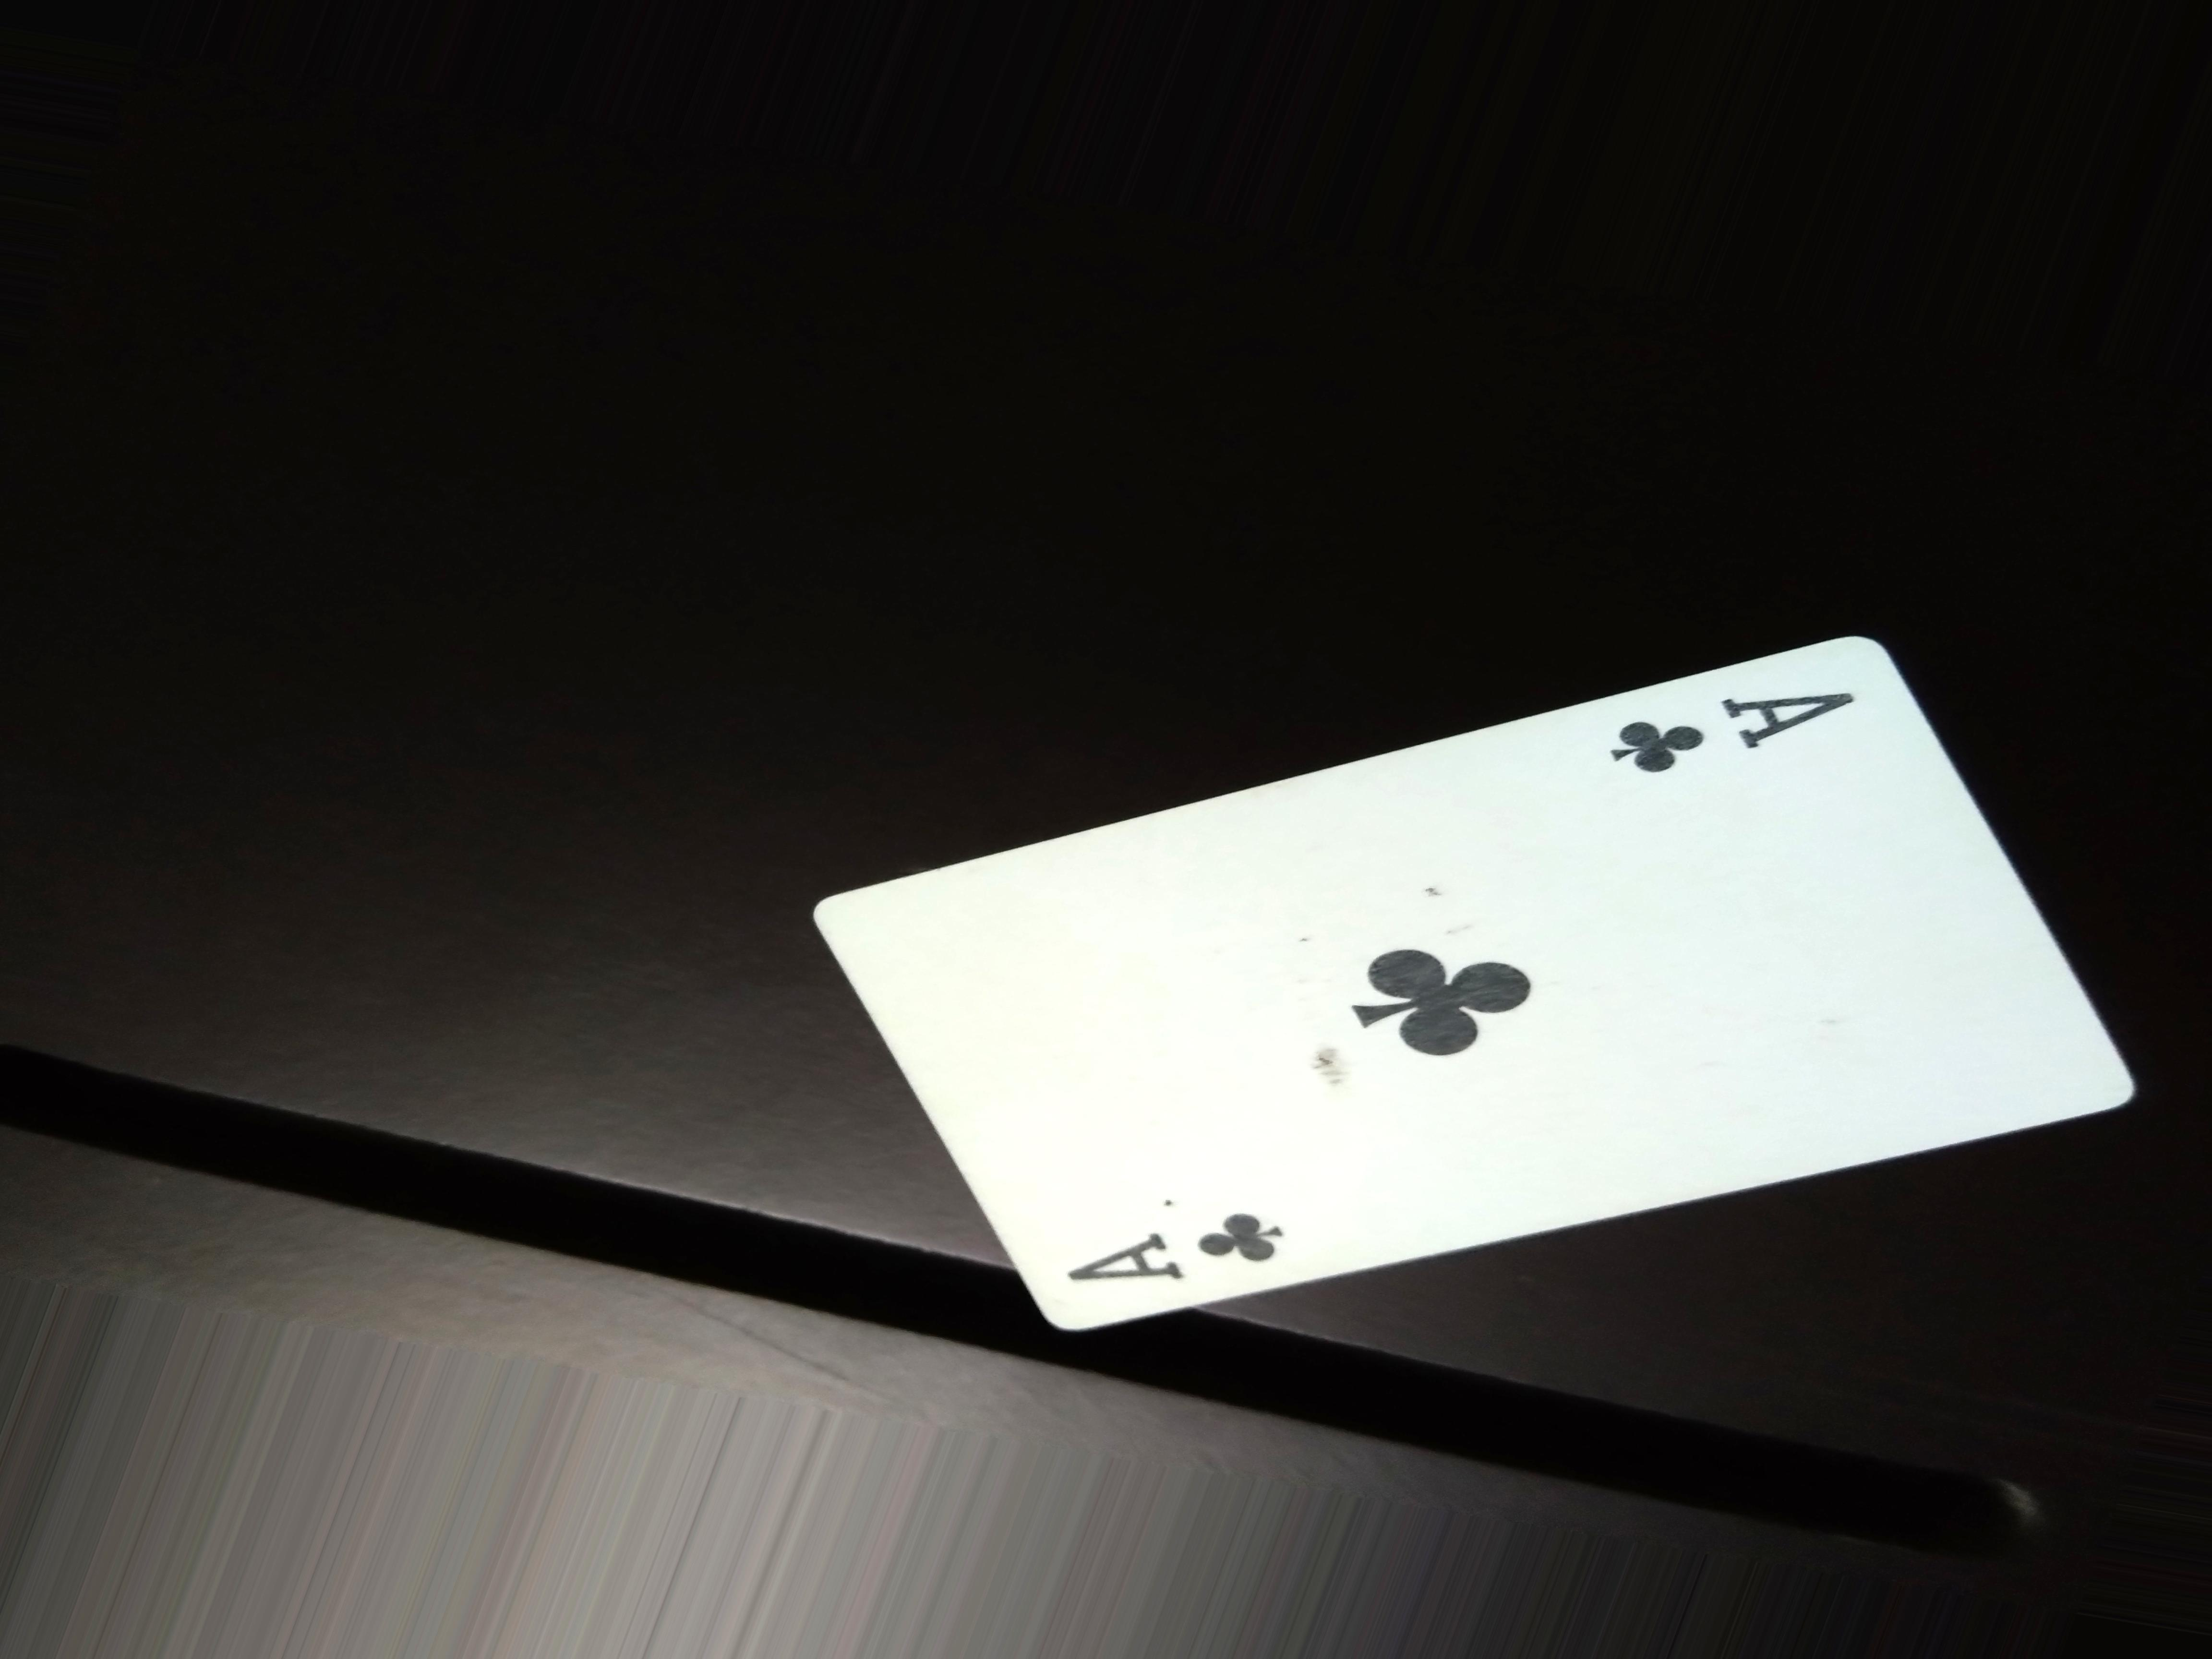AC: (1597, 660, 1881, 795)
